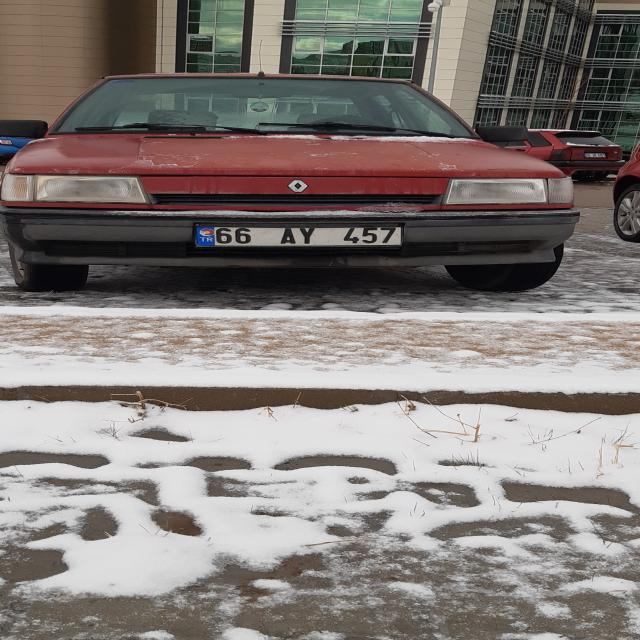plate: (195, 226, 402, 246)
